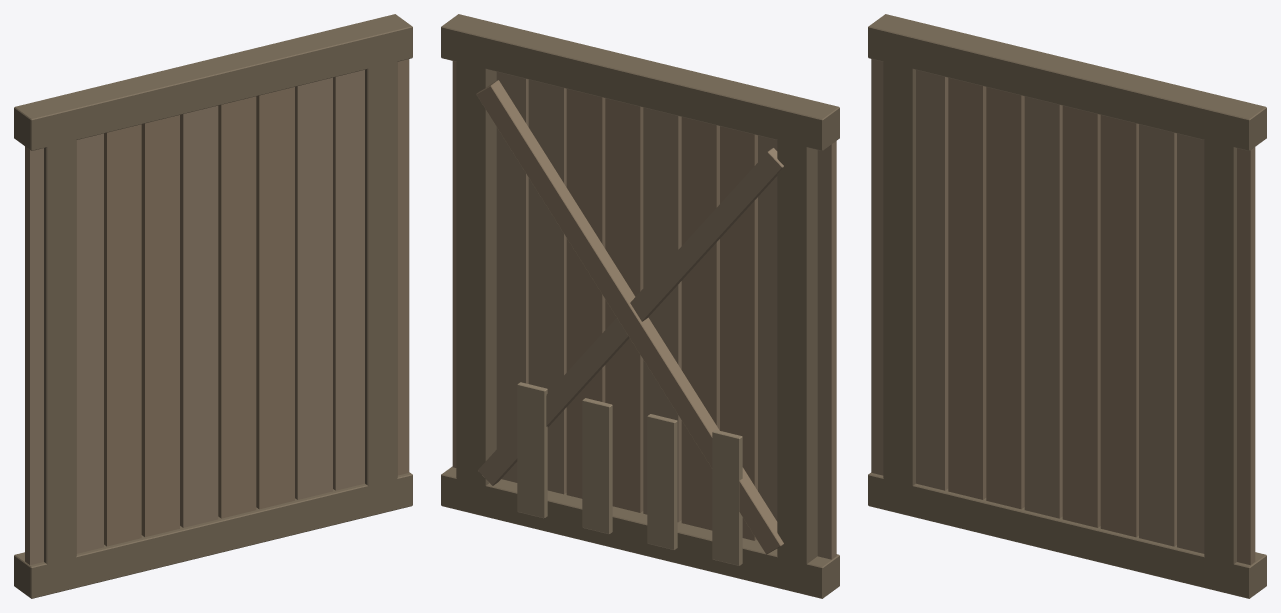
File: env_wall_plank_crossbraced_b_v02_lower_repairs.glb
The picture shows the model from 3 angles, left to right: view 1: azimuth 30°, elevation 25°; view 2: azimuth 150°, elevation 25°; view 3: azimuth 330°, elevation 25°; orthographic projection.
Visible parts, largest first — view 1: material_0, material_1, material_2; view 2: material_2, material_0, material_1, material_3; view 3: material_0, material_1, material_2.
Boxes of the visible parts, box(x1,y1,x2,y2) form: material_0: box(104, 59, 409, 546); material_1: box(25, 70, 364, 565); material_2: box(14, 14, 412, 598); material_2: box(441, 14, 839, 598); material_0: box(452, 61, 783, 554); material_1: box(478, 72, 836, 559); material_3: box(517, 382, 742, 565); material_0: box(948, 77, 1255, 565); material_1: box(871, 59, 1204, 553); material_2: box(868, 14, 1266, 598).
Bounding box in the file's own units: 2 × 2.4 × 0.19.
